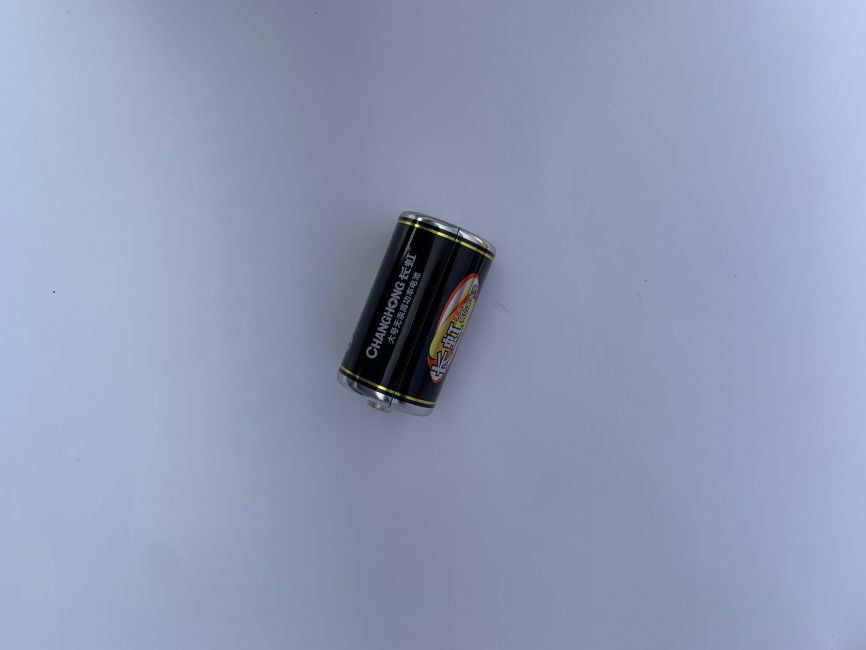charge: (334, 208, 499, 421)
